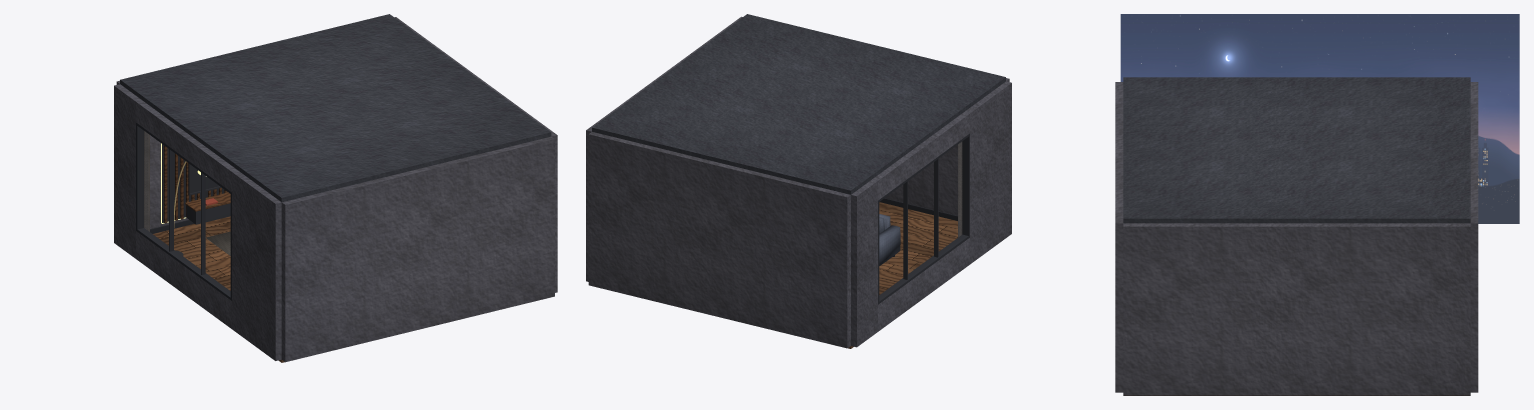
3 views of the same model, side by side, from view 1: azimuth 30°, elevation 25°; view 2: azimuth 150°, elevation 25°; view 3: azimuth 270°, elevation 25° (orthographic). The views are drawn at different scales.
Parts seen in each view (by area): view 1: EnvironmentRoot; view 2: EnvironmentRoot; view 3: EnvironmentRoot.
Part boxes in pixels (x1,y1,x2,y2): EnvironmentRoot: [114, 14, 557, 362]; EnvironmentRoot: [586, 14, 1011, 348]; EnvironmentRoot: [1115, 14, 1519, 395].
Size of the model in its own units: 6.92 by 3.6 by 6.28.
Materials: 15 (7 with a texture image).
